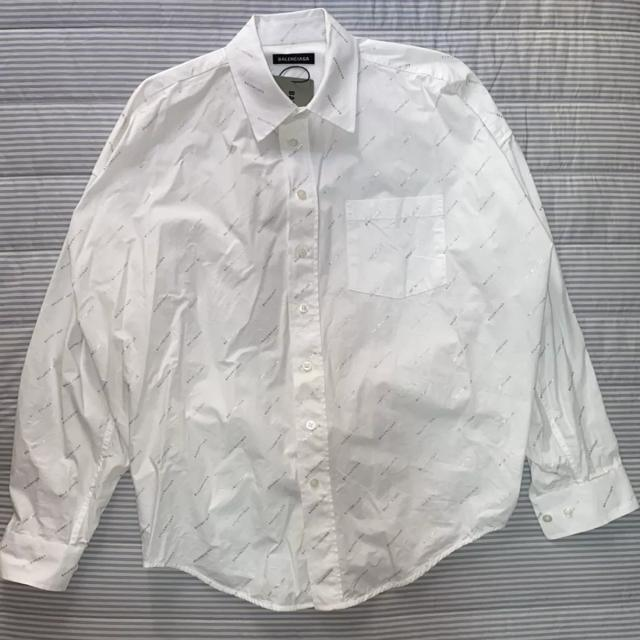long sleeve shirt: (0, 8, 638, 614)
